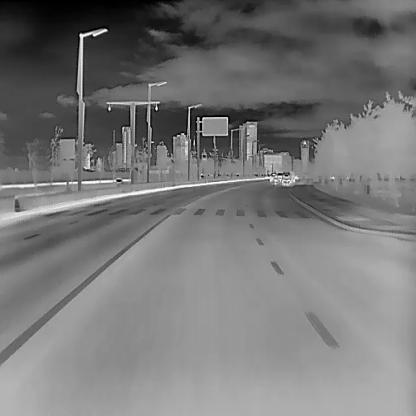car: (281, 171, 291, 185), (268, 172, 277, 183), (276, 171, 281, 180)
